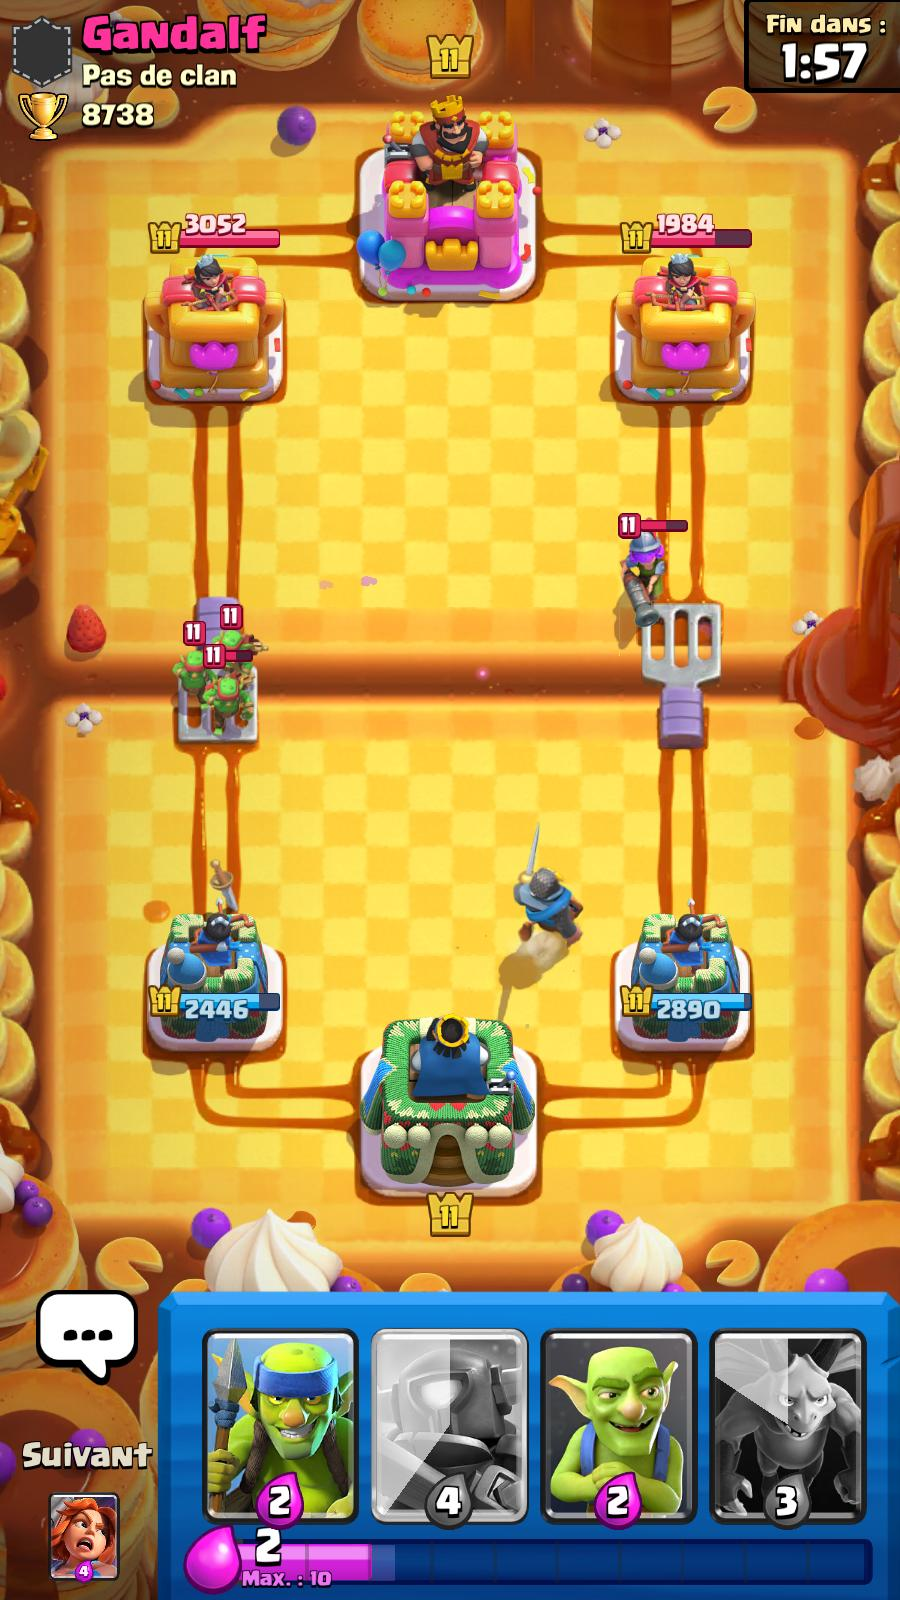chevalier: (501, 824, 595, 959)
gobelin: (199, 673, 273, 757), (213, 605, 279, 680), (181, 633, 227, 715)
mousquetaire: (608, 510, 687, 634)
